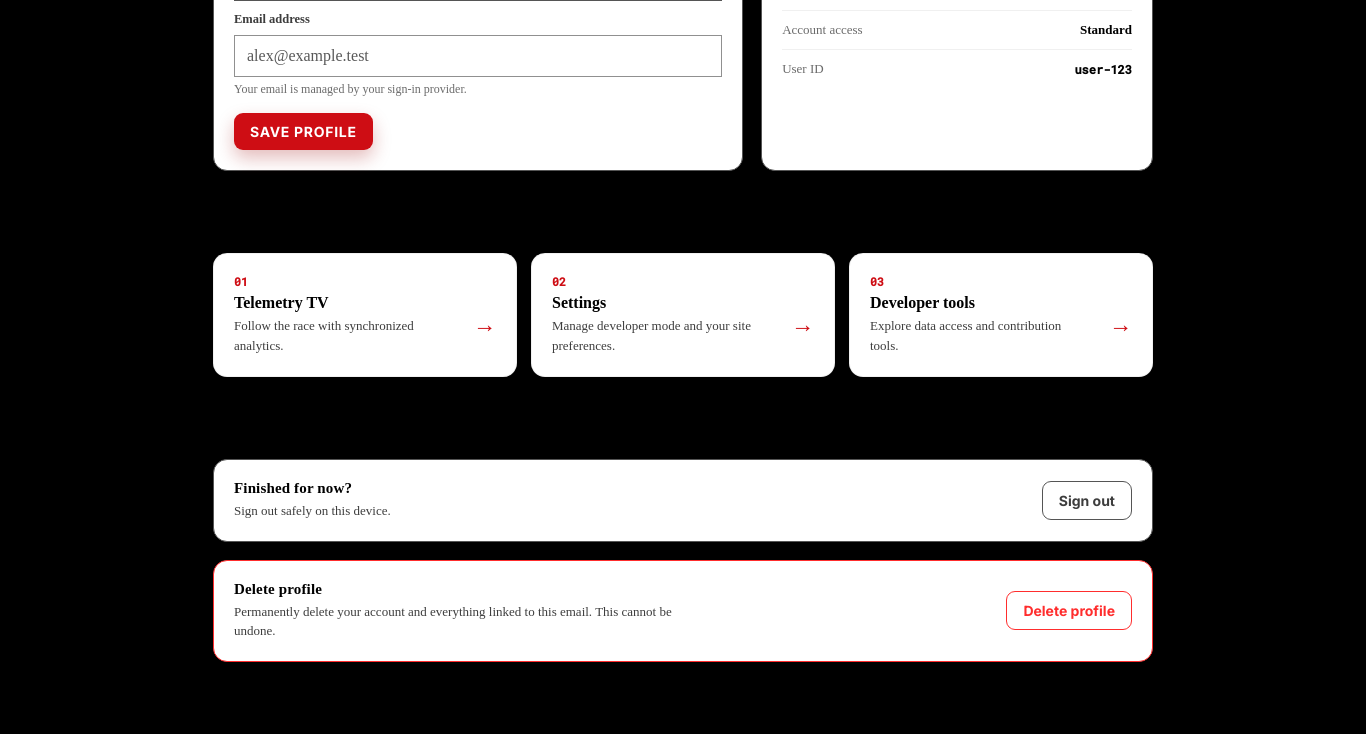
Test: ProfilePage › will not start deleting until the current password is entered
The image size is (1366, 734).
(page scrolled)
Click the button "Delete profile": {"x": 1069, "y": 610} [1006,591,1132,630]
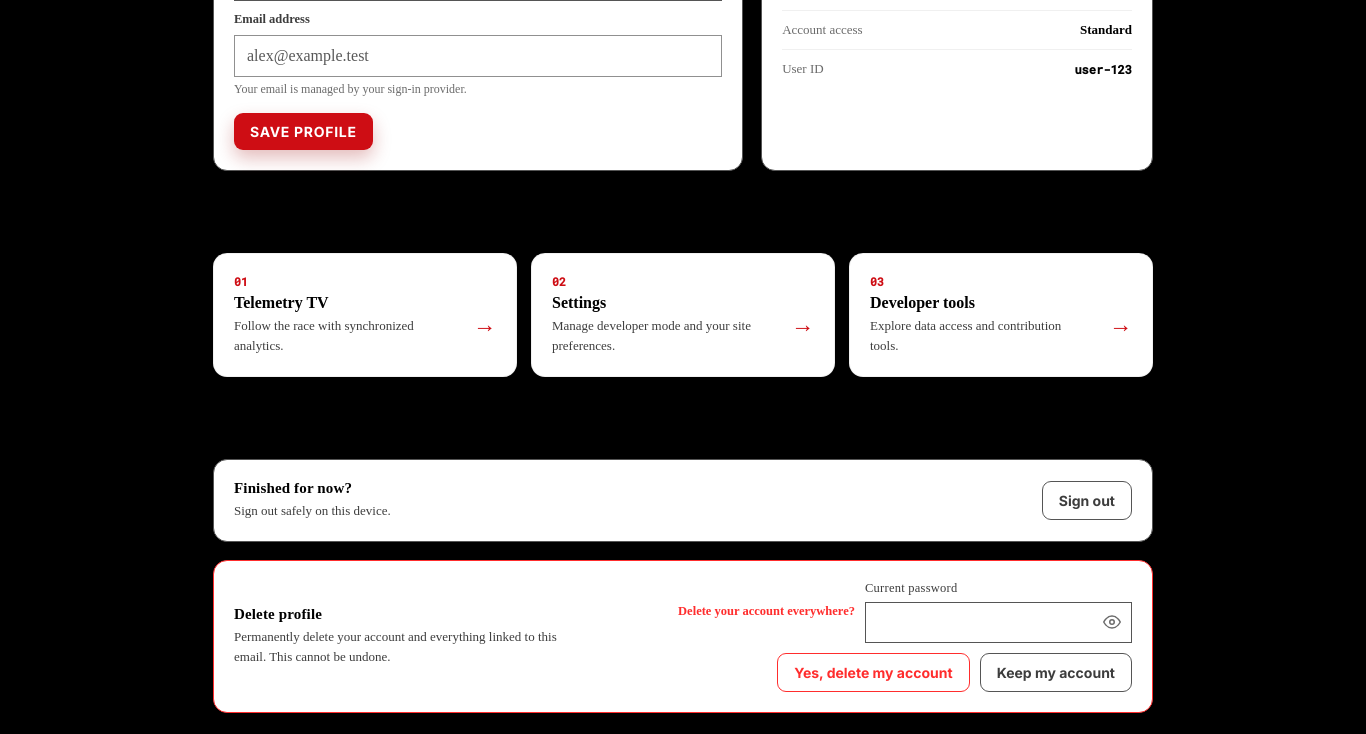
Click the button "Yes, delete my account": {"x": 873, "y": 672} [777,652,970,692]
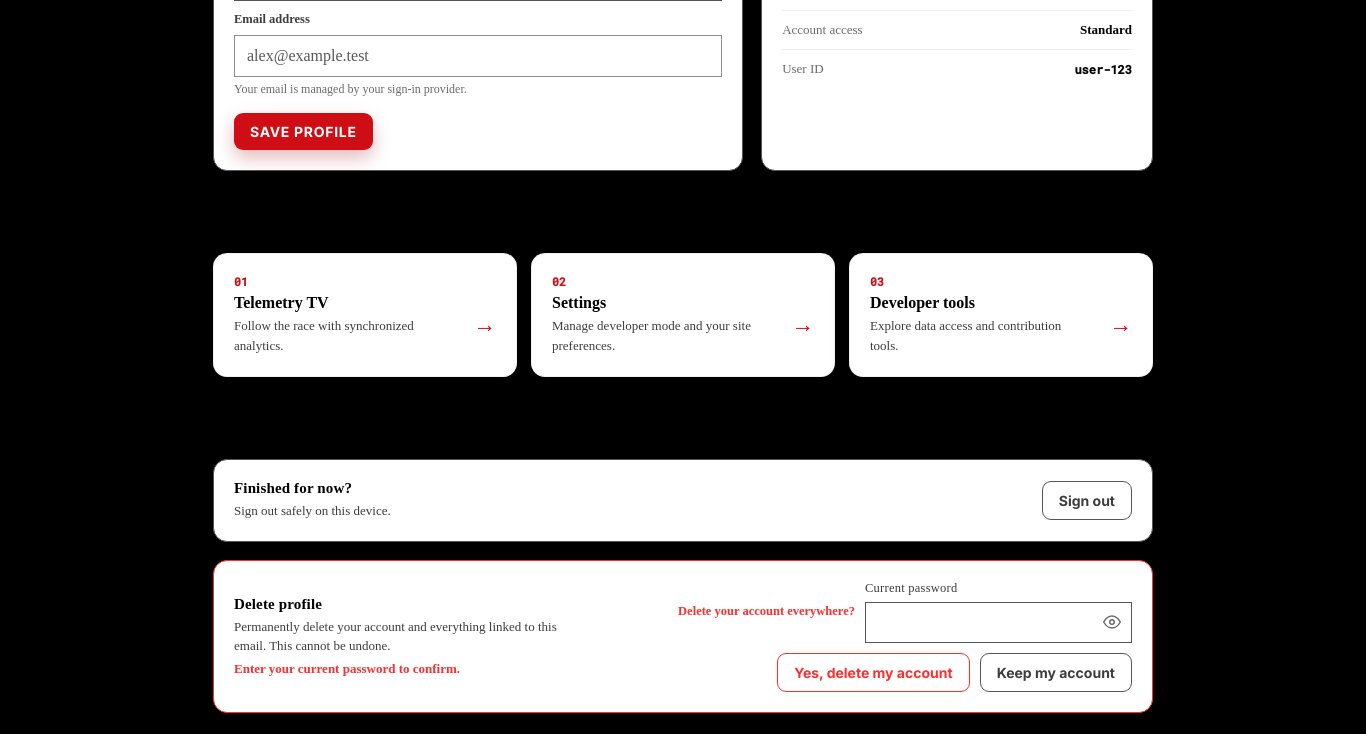
Check: the element named "Confirm account deletion" is shown, box [678,580,1132,692]
Check: the message reads "Enter your current password to confirm.", box [234,660,460,676]
